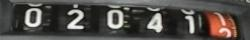digits: (205, 9, 232, 27), (66, 9, 85, 29), (24, 7, 42, 27), (146, 12, 163, 32), (107, 9, 124, 28), (184, 14, 196, 34)
